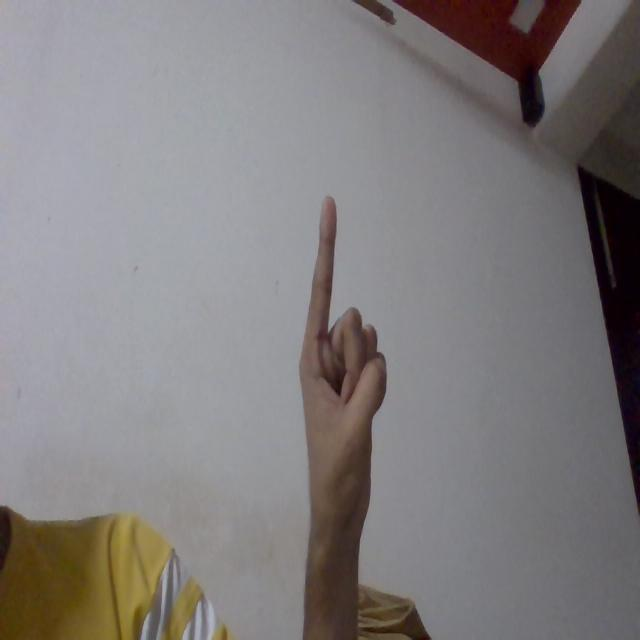Z: (276, 156, 424, 602)
